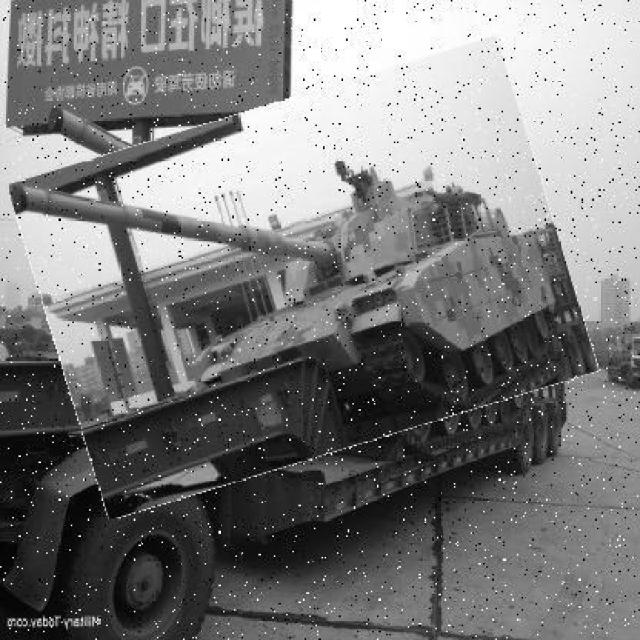Tank: (29, 70, 581, 489)
